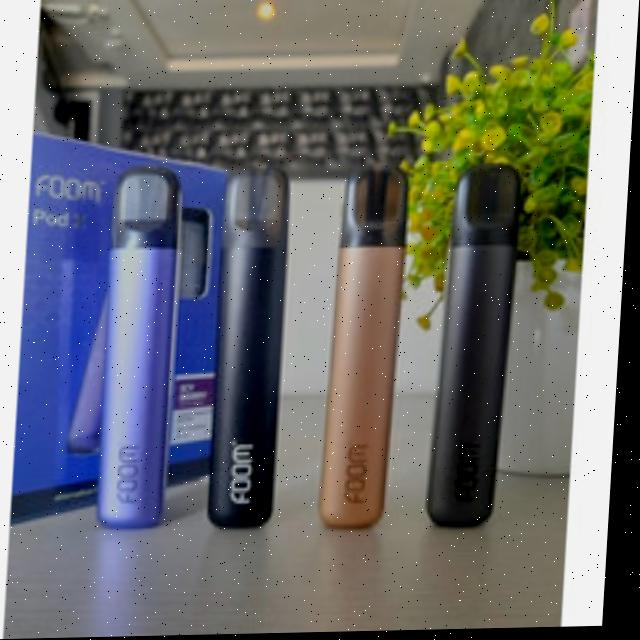vape: (431, 163, 530, 532), (207, 158, 298, 532), (98, 164, 190, 531), (322, 165, 414, 531)
